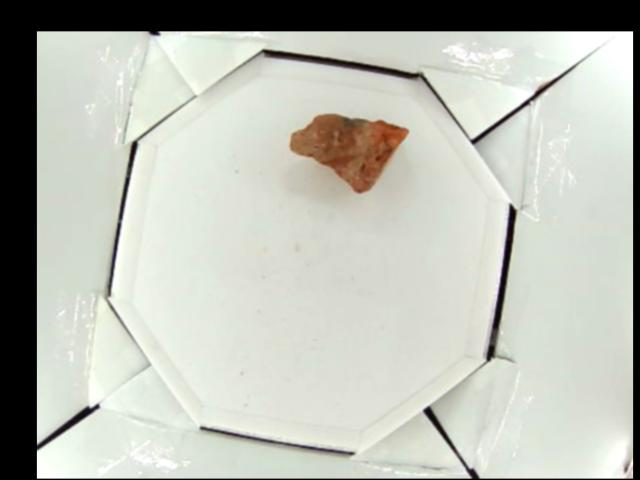Brisk: (290, 114, 410, 190)
